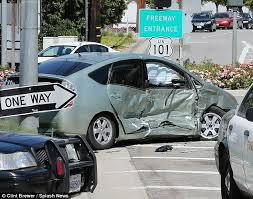RunningBoard-Dent: (124, 126, 192, 141)
doorouter-dent: (152, 72, 193, 128), (110, 74, 149, 132)
fender-dent: (198, 80, 235, 109)
